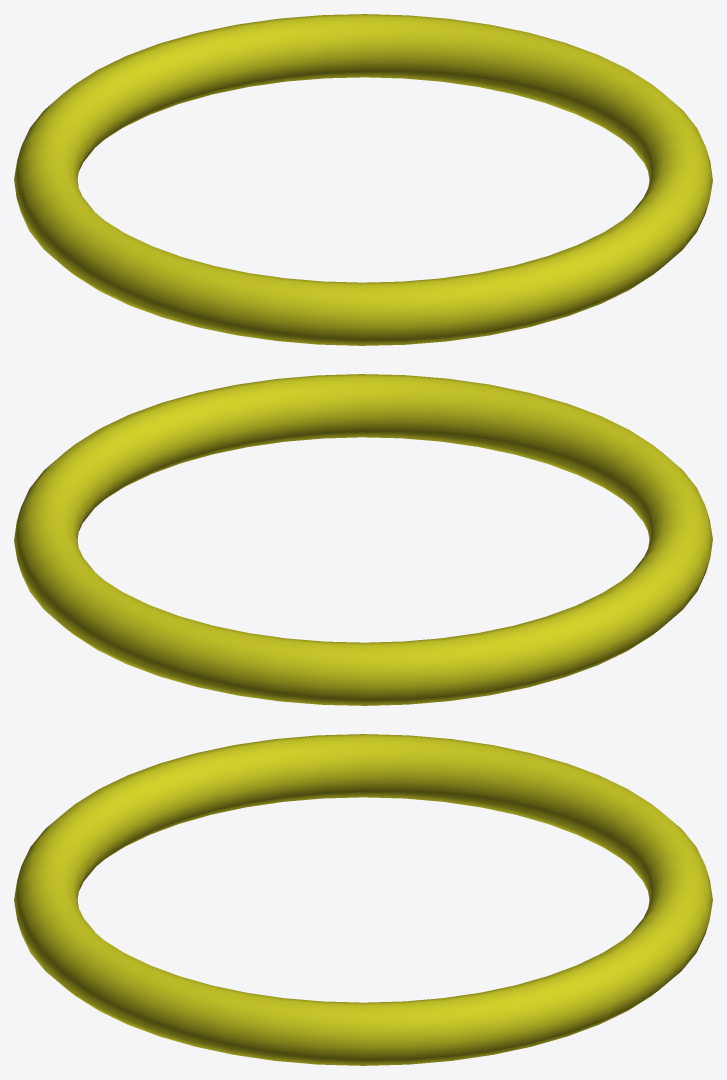
Rendered from Halo.fbx.
The picture shows the model from 3 angles, top to bottom: view 1: azimuth 30°, elevation 25°; view 2: azimuth 150°, elevation 25°; view 3: azimuth 270°, elevation 25°; orthographic projection.
Parts seen in each view (by area): view 1: Halo; view 2: Halo; view 3: Halo.
Boxes of the visible parts, x1=… form: Halo: x1=14, y1=14, x2=712, y2=345; Halo: x1=14, y1=374, x2=712, y2=705; Halo: x1=14, y1=734, x2=712, y2=1065.
Size of the model in its own units: 220 by 20 by 220.
